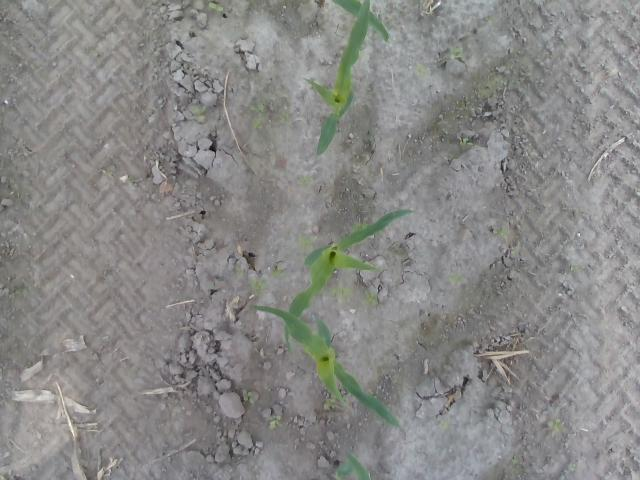Maize: (284, 210, 416, 356), (247, 306, 401, 431), (305, 1, 373, 156), (330, 0, 392, 44), (329, 450, 372, 480)
Weeds: (328, 280, 352, 306), (248, 103, 266, 130), (296, 234, 318, 255), (187, 105, 207, 123), (249, 278, 268, 295), (266, 414, 284, 430), (412, 64, 431, 79), (360, 291, 378, 306), (490, 227, 508, 241), (242, 388, 256, 406), (8, 178, 22, 196), (548, 420, 562, 436), (446, 272, 461, 286), (449, 48, 463, 61), (457, 136, 472, 148), (208, 2, 224, 13), (298, 176, 315, 186), (324, 398, 336, 412), (128, 176, 142, 188), (8, 288, 22, 300), (438, 418, 449, 432), (486, 14, 498, 26), (569, 260, 582, 270), (273, 270, 286, 279), (104, 169, 115, 179), (236, 267, 244, 274)
